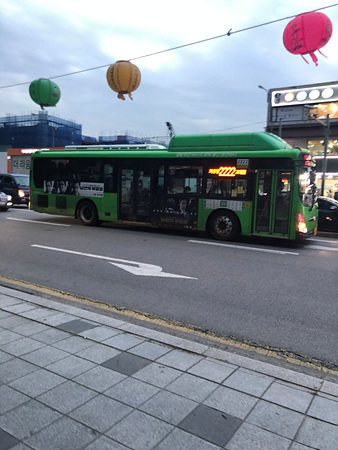entrance: (254, 165, 296, 244)
